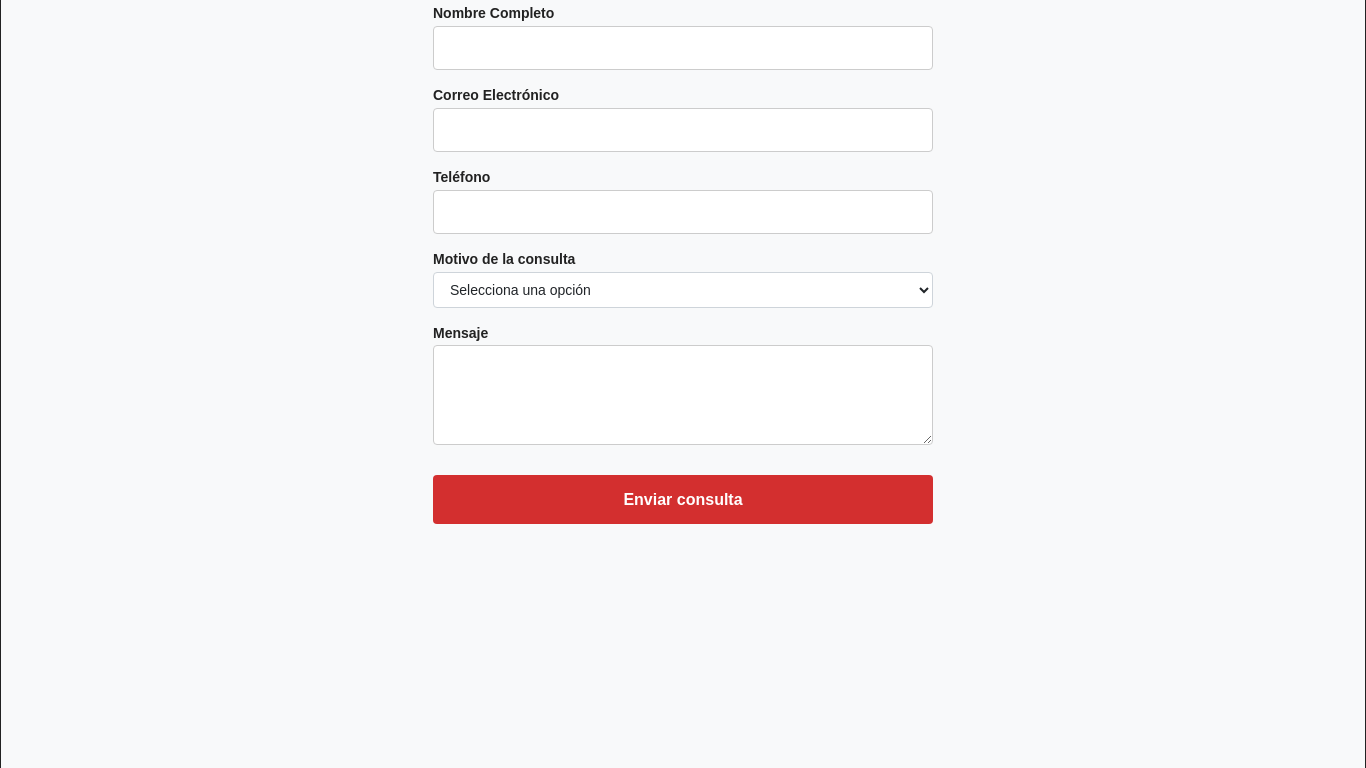
Test: FormularioContacto › envío › confirma el envío y limpia los campos cuando todo es válido
This screenshot has width=1366, height=768.
Type "Camila Rojas" into the field labelled "Nombre Completo" at (683, 48), box 433,26 -> 933,70
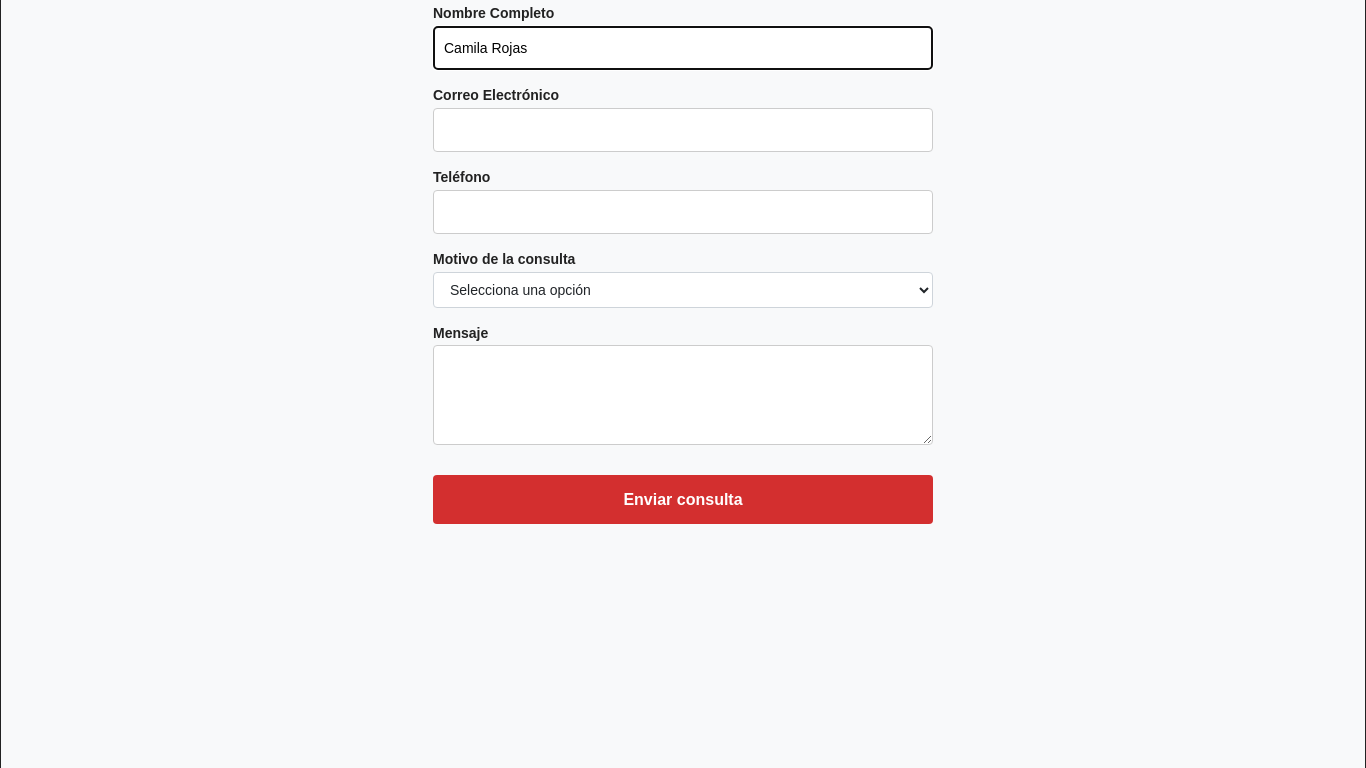
Type "camila.rojas@gmail.com" into the field labelled "Correo Electrónico" at (683, 130), box 433,108 -> 933,152
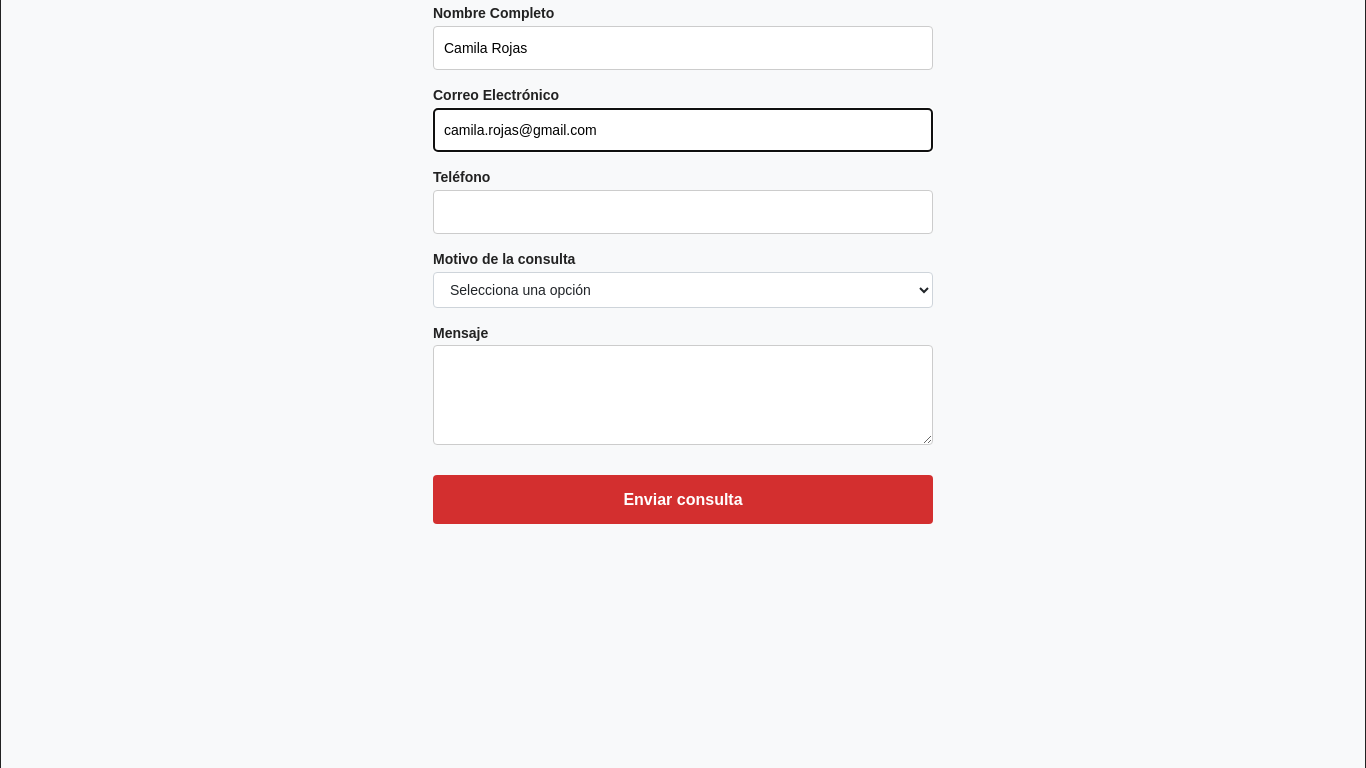
Type "912345678" into the field labelled "Teléfono" at (683, 212), box 433,190 -> 933,234
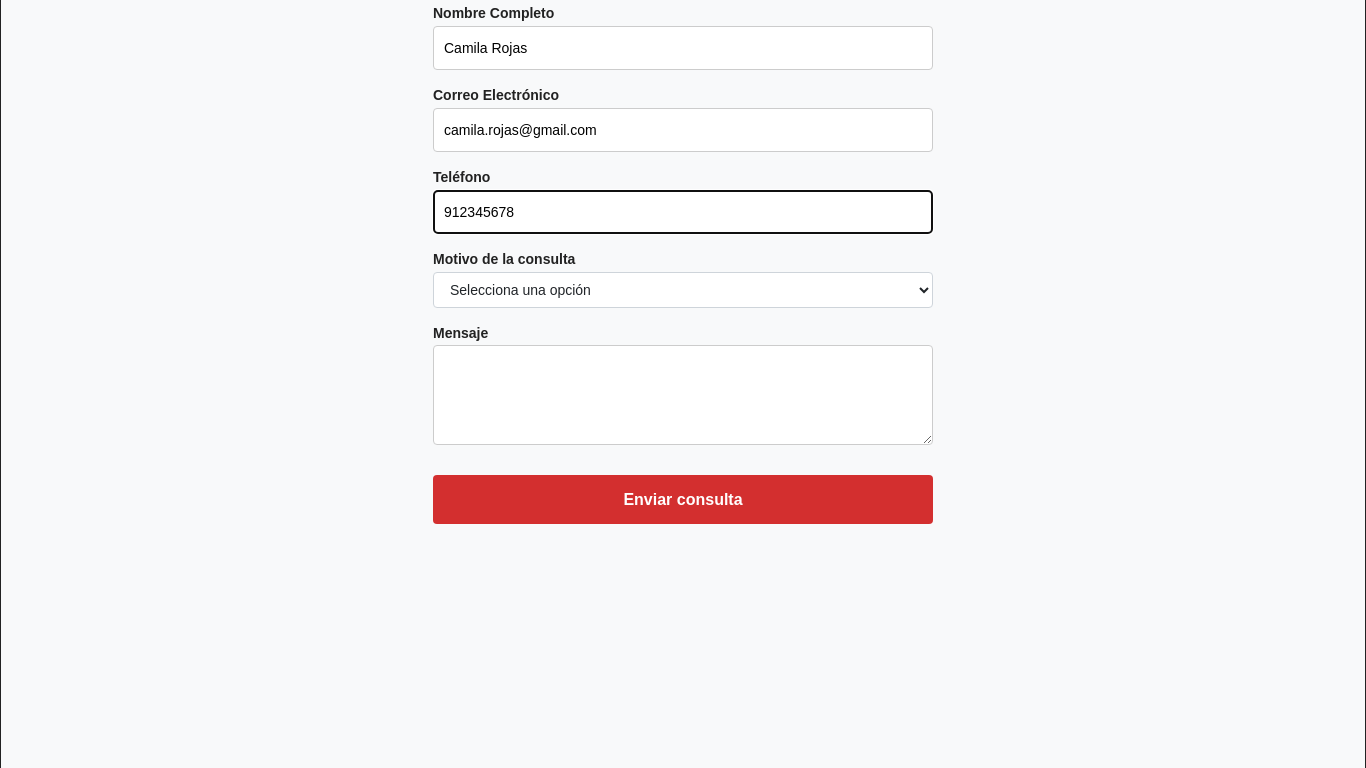
Select "Reclamo" in the dropdown labelled "Motivo de la consulta" at (683, 290), box 433,272 -> 933,308
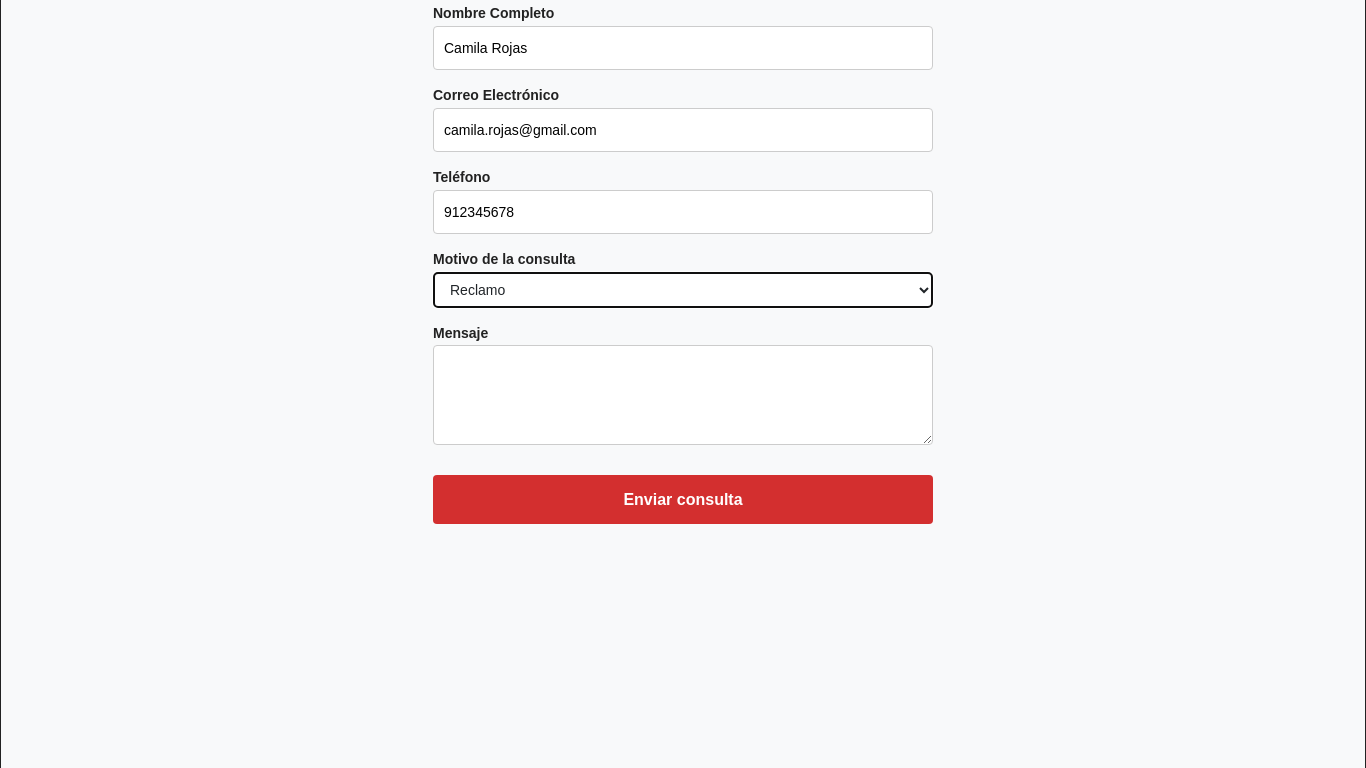
Type "Quisiera consultar por una guitarra." into the text box labelled "Mensaje" at (683, 395), box 433,345 -> 933,445
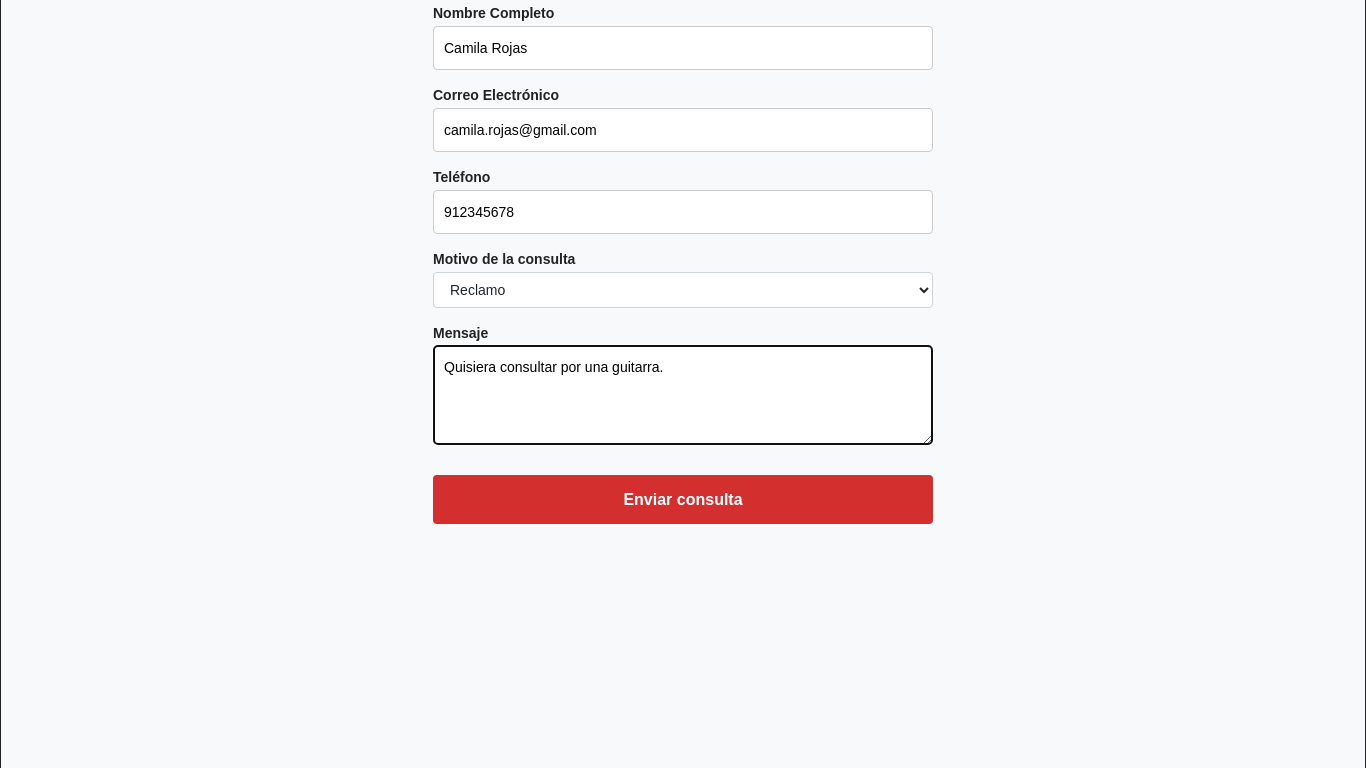
Click the button "Enviar consulta" at (683, 500), box 433,475 -> 933,524
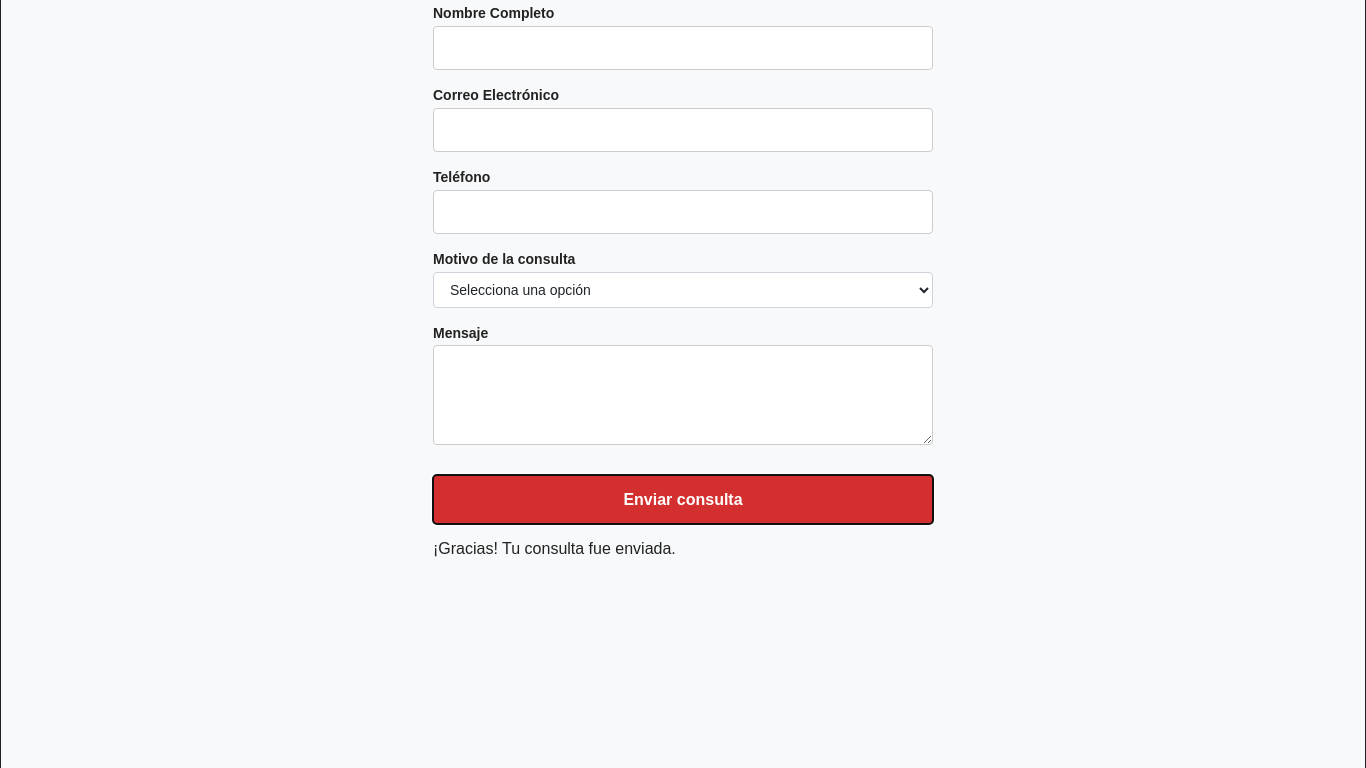
Expected: the text "¡Gracias! Tu consulta fue enviada." is shown, 433,540 -> 676,557
Expected: the field labelled "Nombre Completo" is empty, 433,26 -> 933,70
Expected: the text box labelled "Mensaje" is empty, 433,345 -> 933,445
